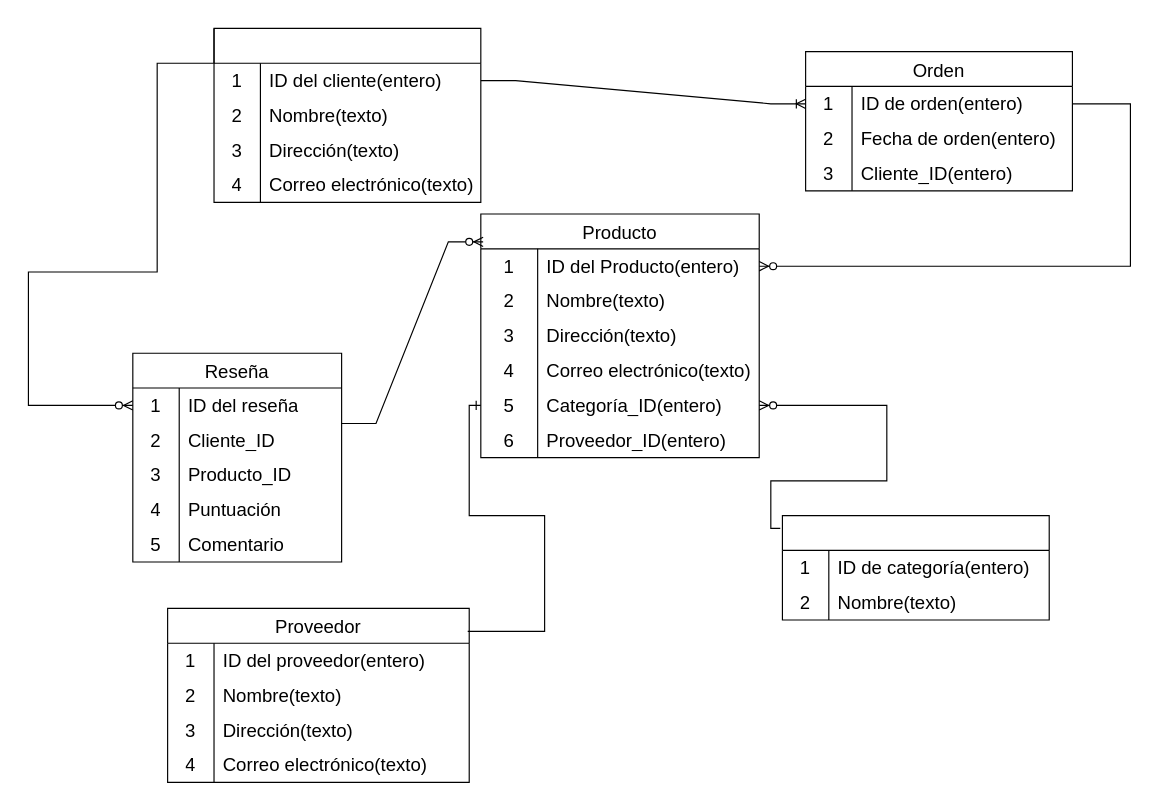
The diagram is 1160 pixels wide and 803 high, and some of its shapes have lost their labels. Each missing label, with the box of its shape:
Categoria: (781, 514, 1049, 620)
Clientes: (213, 27, 481, 202)
